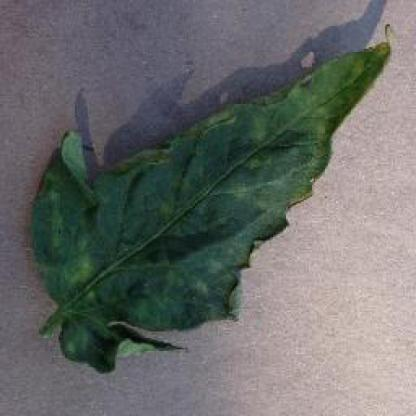Tomato_Leaf_Mold: (25, 40, 392, 327)
